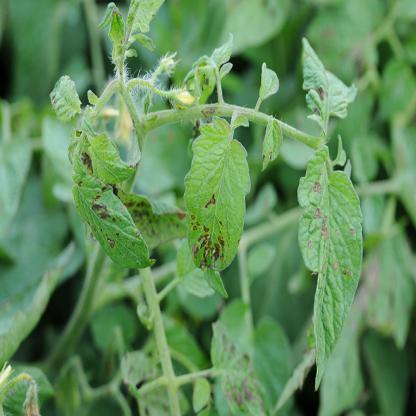Tomato leaf late blight: (294, 156, 365, 404), (188, 118, 252, 300), (64, 146, 140, 286)
